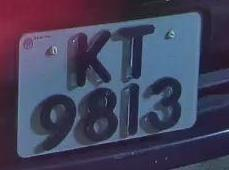1: (117, 78, 146, 136)
3: (146, 74, 184, 131)
8: (75, 84, 121, 145)
9: (28, 88, 78, 154)
K: (63, 25, 120, 91)
T: (113, 22, 160, 83)
